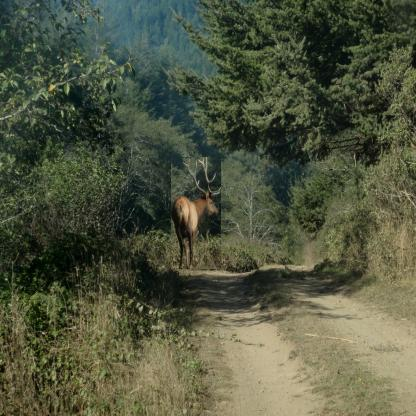Deer: (171, 157, 221, 269)
